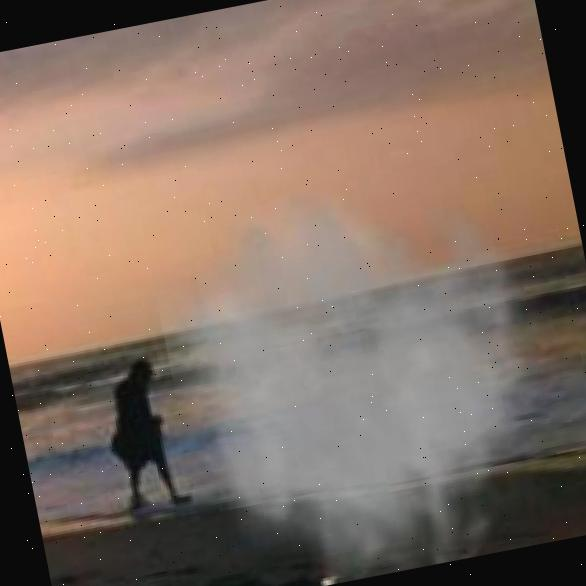smoke: (138, 136, 586, 586)
